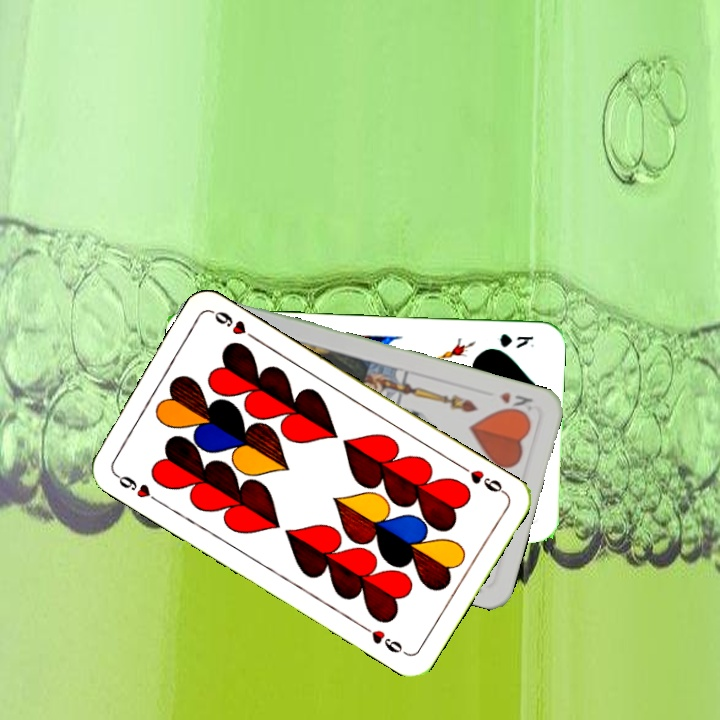GK: (495, 330, 536, 350)
H9: (109, 468, 162, 506), (455, 460, 509, 497)
HK: (496, 387, 536, 419)
